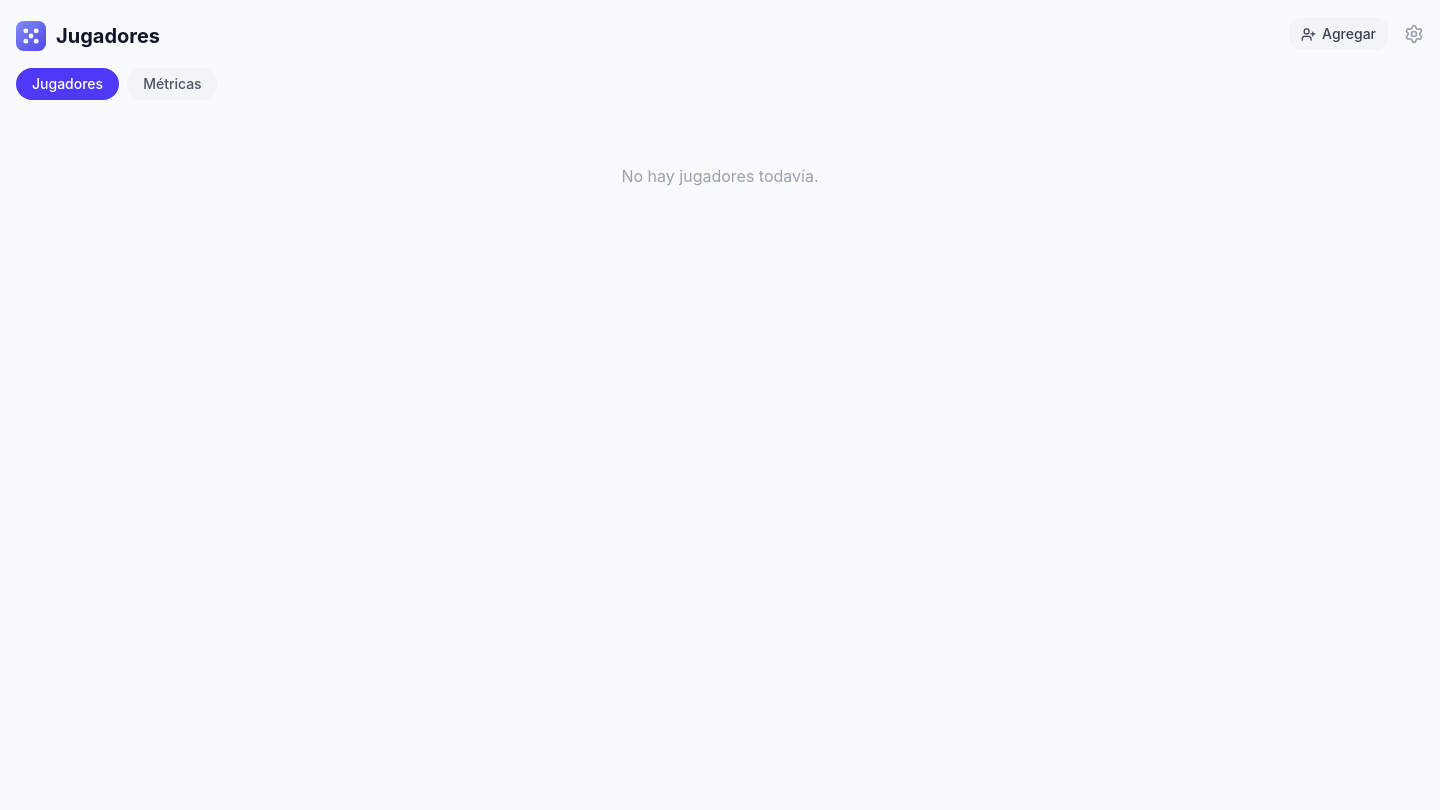
Test: PlayersPage › clicking "Agregar" opens the modal with name input
What coordinates should you click on to do the following:
click the button with aria-label "Agregar jugador"
I would click on:
 (1339, 34)
Its box is [1289, 18, 1388, 50].
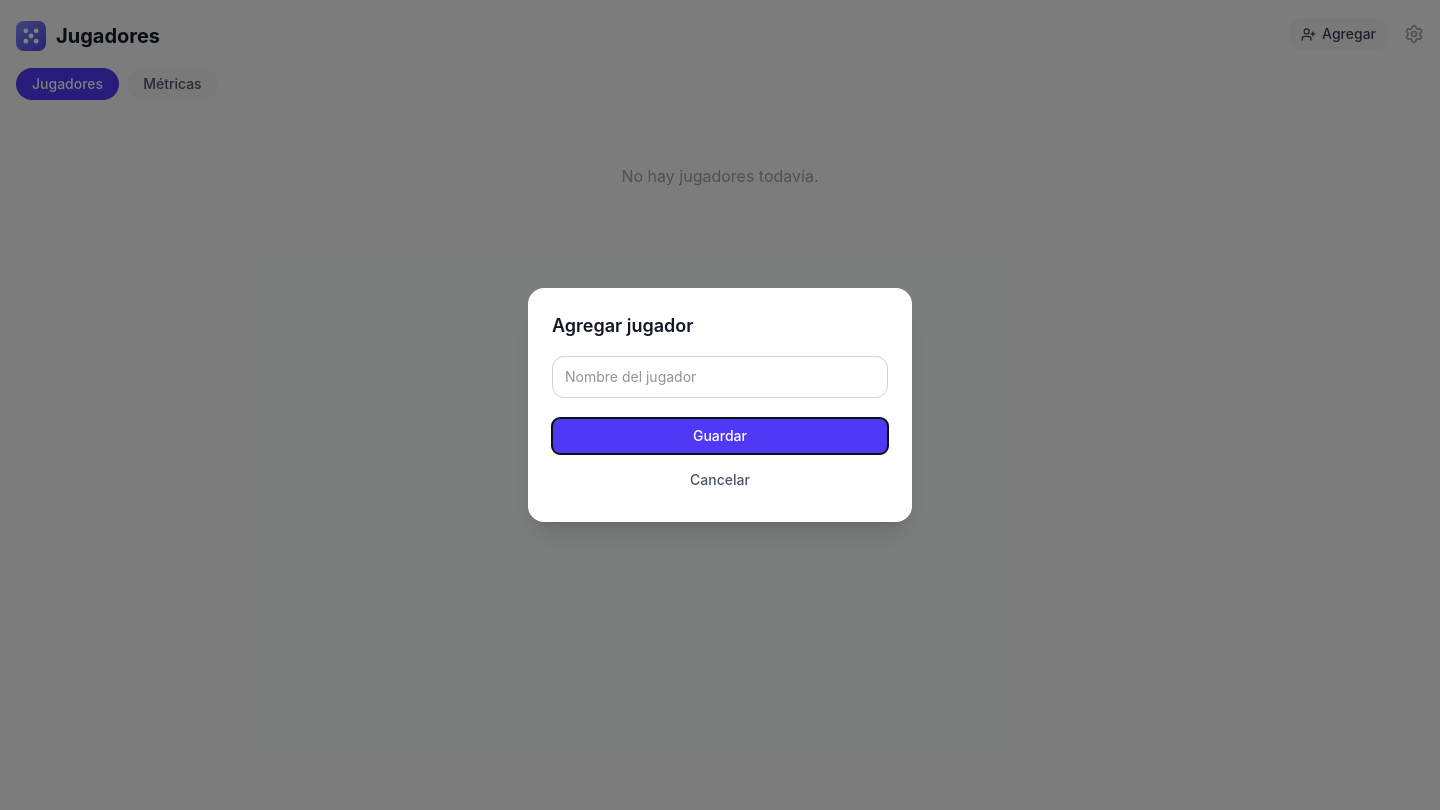
Check: the field with placeholder "Nombre del jugador" is shown, box [552, 356, 888, 398]
